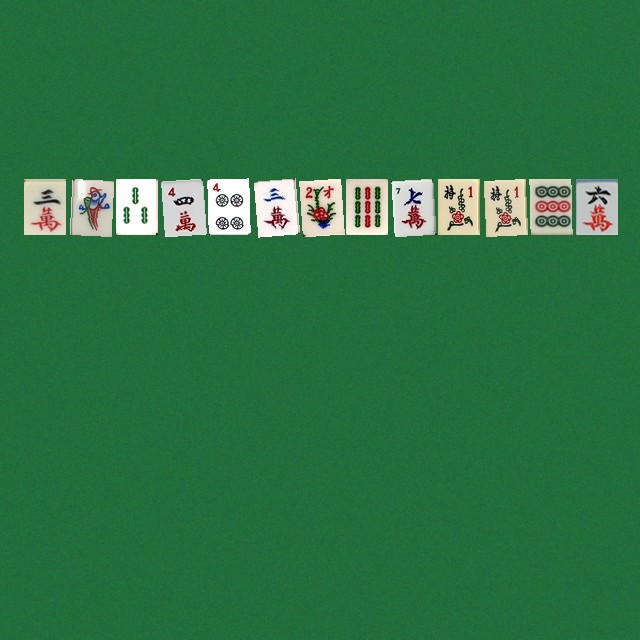tile: (23, 178, 65, 234), (69, 178, 111, 234), (115, 178, 157, 234), (161, 178, 203, 234), (207, 178, 249, 234), (253, 178, 295, 234), (299, 178, 341, 234), (345, 178, 387, 234), (391, 178, 433, 234), (437, 178, 479, 234), (483, 178, 525, 234), (529, 178, 571, 234), (575, 178, 617, 234)
